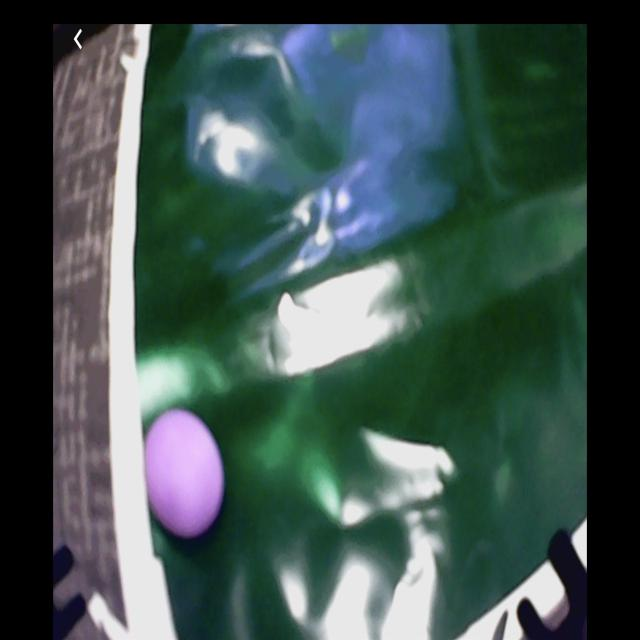ball: (145, 407, 230, 535)
